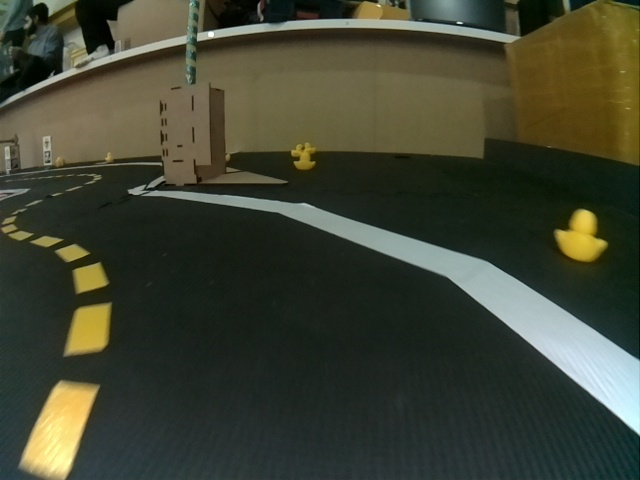Duckie: (554, 209, 603, 262), (294, 154, 315, 171), (292, 144, 302, 156), (55, 157, 65, 167), (304, 143, 314, 152), (105, 152, 114, 161)
Intersection sign: (43, 138, 50, 149)
QR code: (43, 151, 51, 163)
